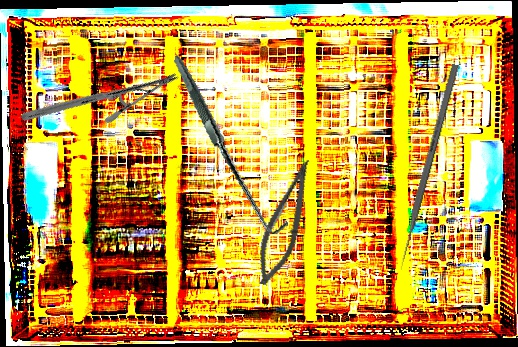Hook Surgical: (143, 54, 318, 237)
Micro Scissor: (249, 153, 319, 291)
Needle Holder: (20, 18, 179, 176)
Pusher: (396, 63, 460, 271)
